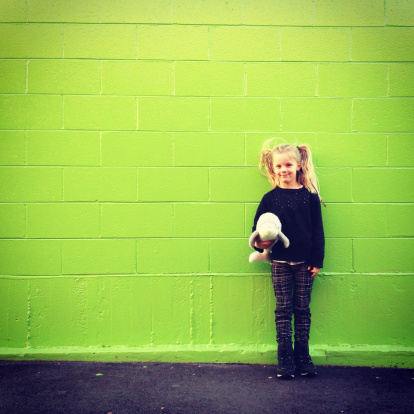em pe: (241, 125, 323, 382)
